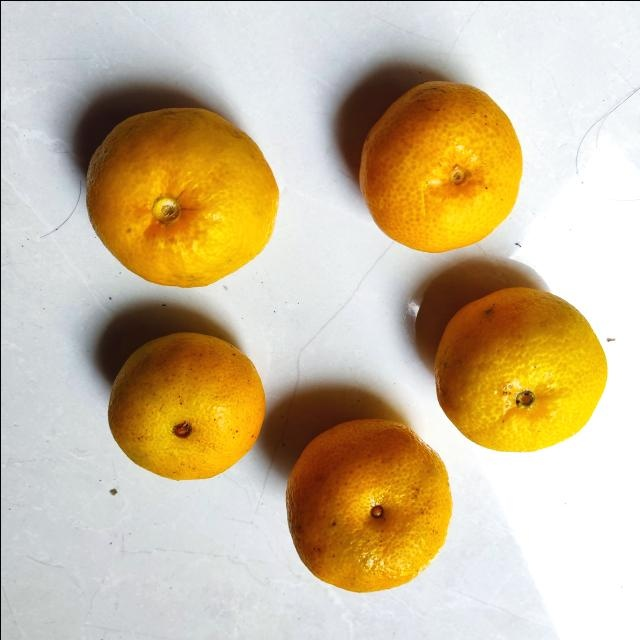agrume: (85, 100, 279, 292), (431, 284, 609, 456), (285, 417, 453, 592), (357, 76, 523, 252), (106, 329, 266, 482)
